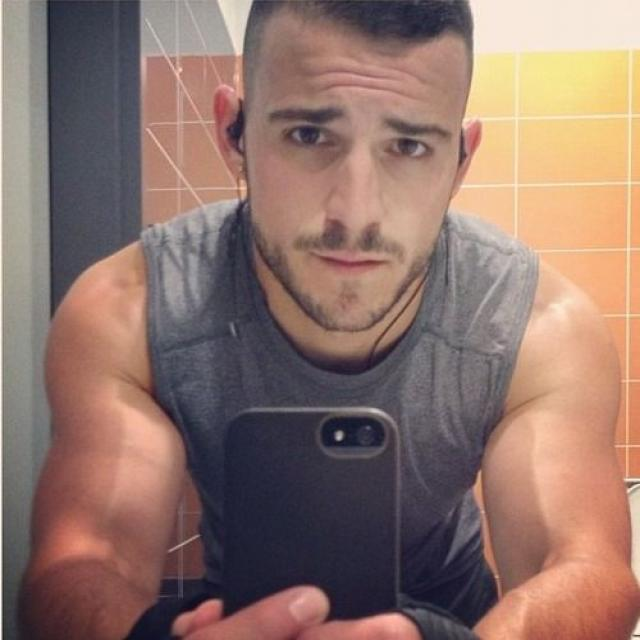earlobe: (213, 85, 247, 183), (452, 117, 483, 198)
